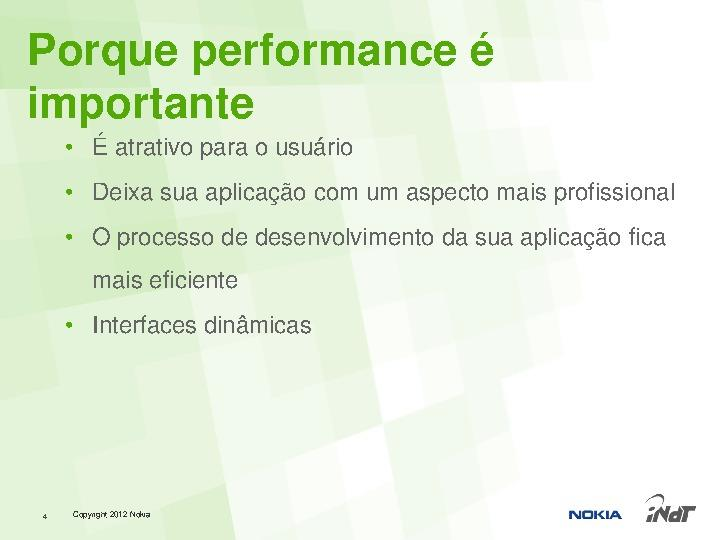paragraph: (59, 131, 689, 363)
subtitle: (20, 486, 715, 536)
title: (14, 23, 526, 127)
